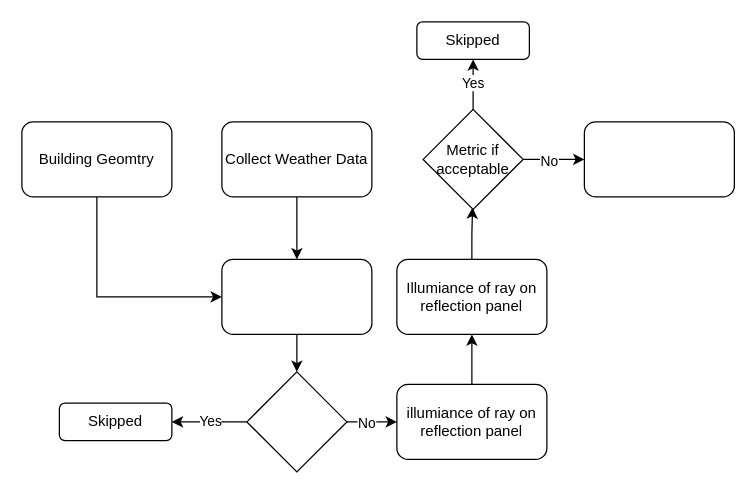
This 756x494 diagram has some shape labels left out. The centre of each missing label's shape, as x and y in pixels:
"Duration of grare" belongs at [658,159].
"If Ray Blocked" belongs at [296,421].
"Sun Ray By Laydbug Sun Object" belongs at [296,296].
